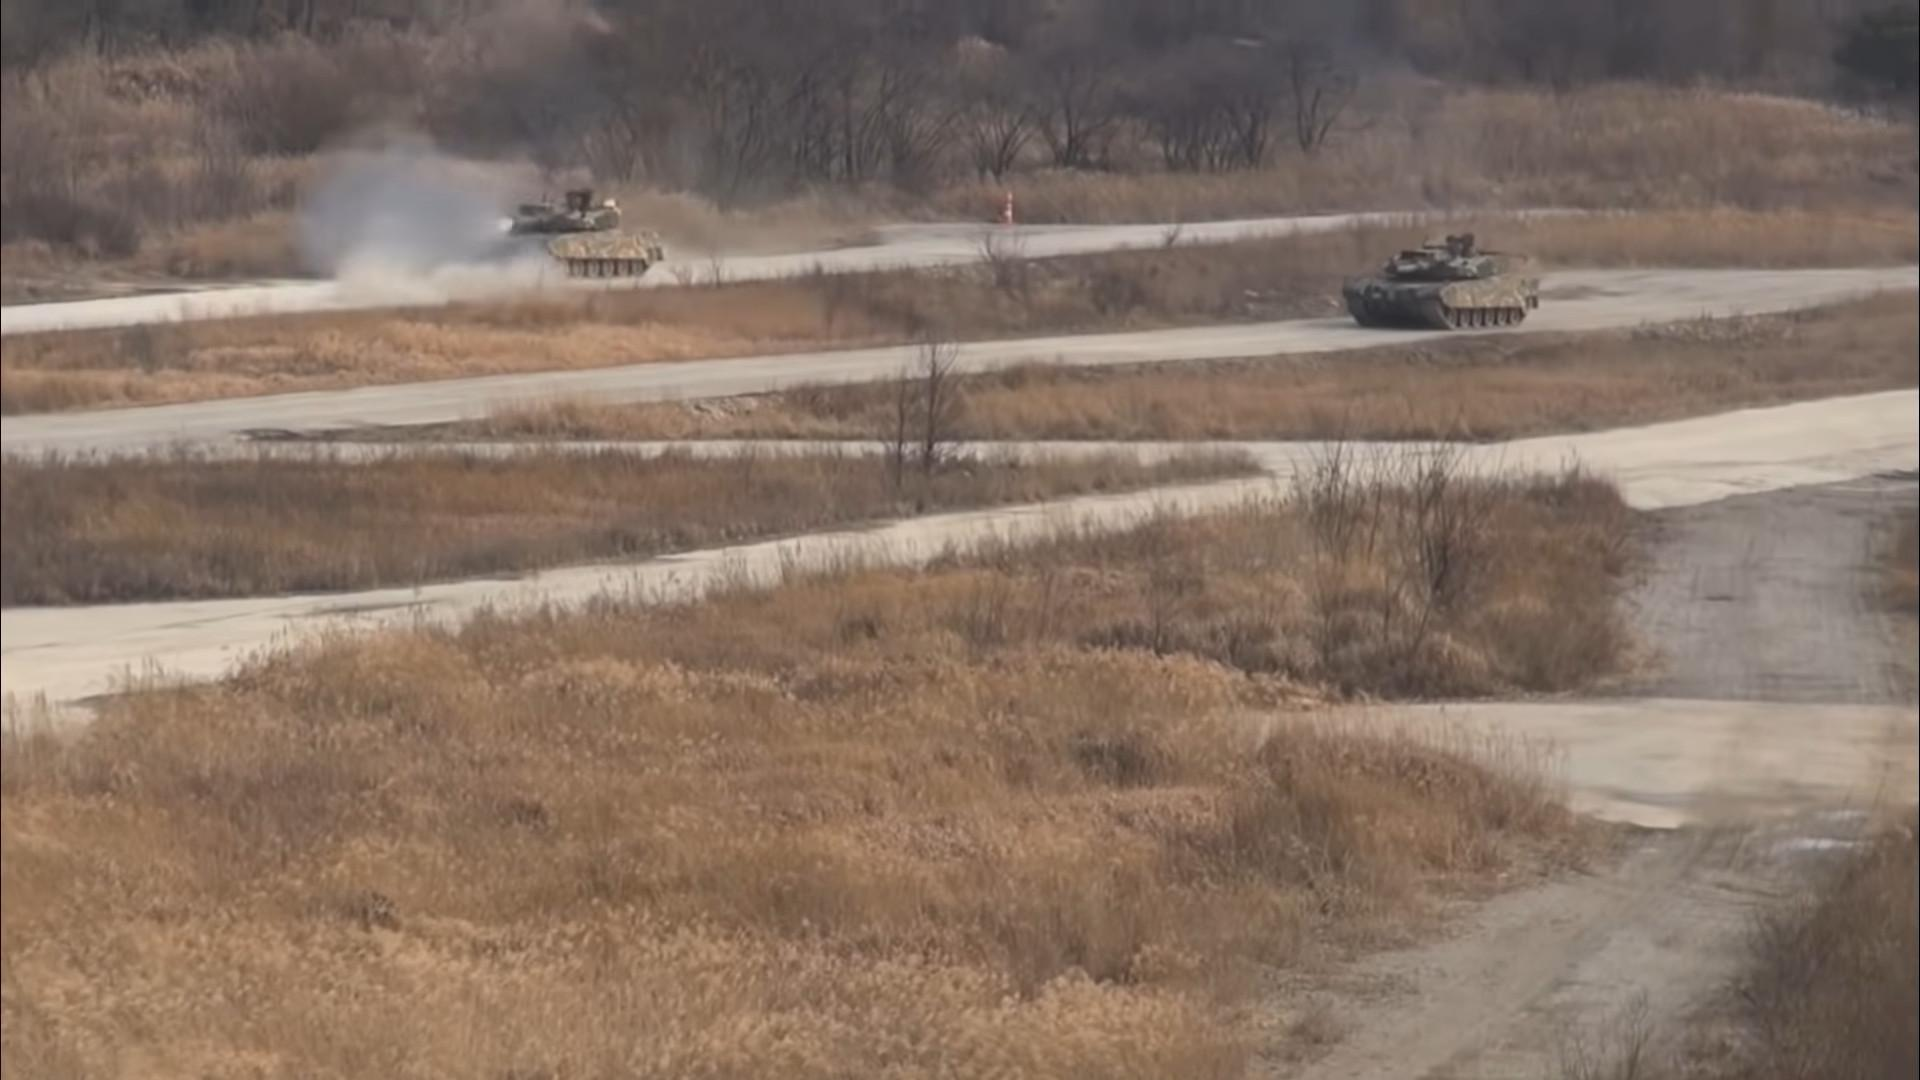tank: (1342, 233, 1540, 330), (483, 193, 665, 277)
